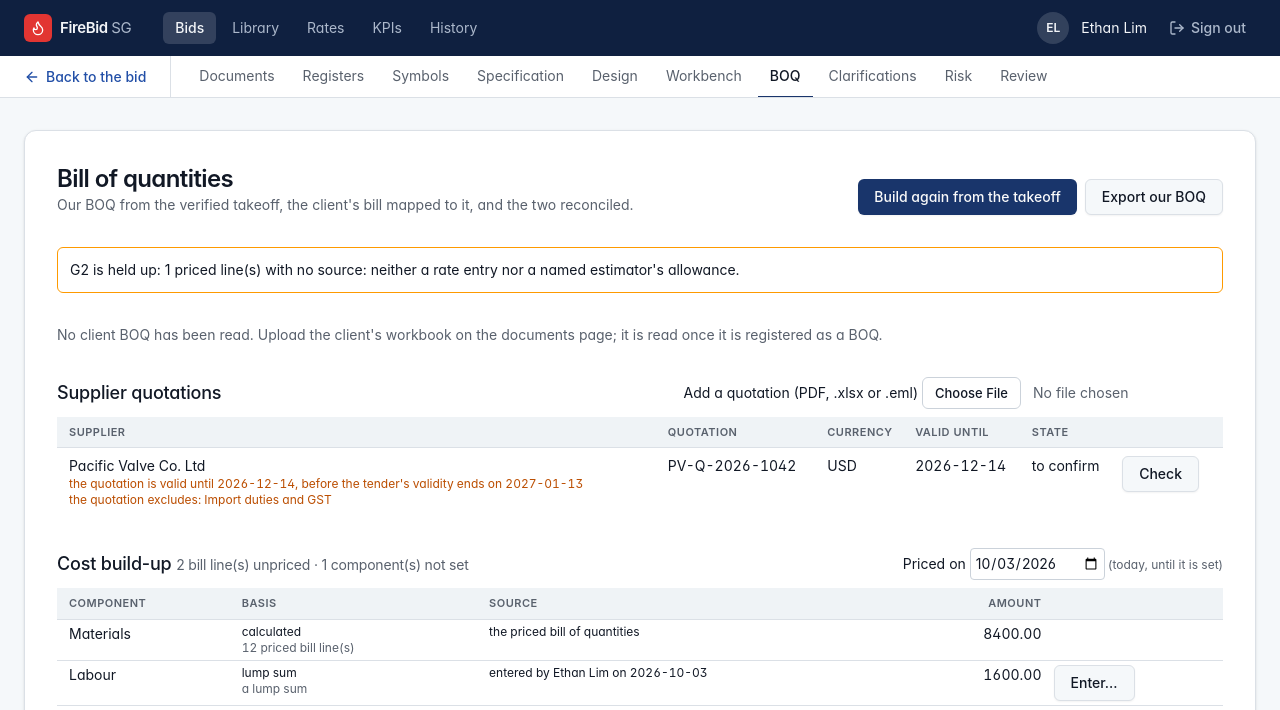
Scenario: quotations and the cost build-up › shows each field beside the line of the file it was read from
Step 1. Click the button "Check" → click(1160, 474), box [1122,456,1199,492]
(page scrolled)
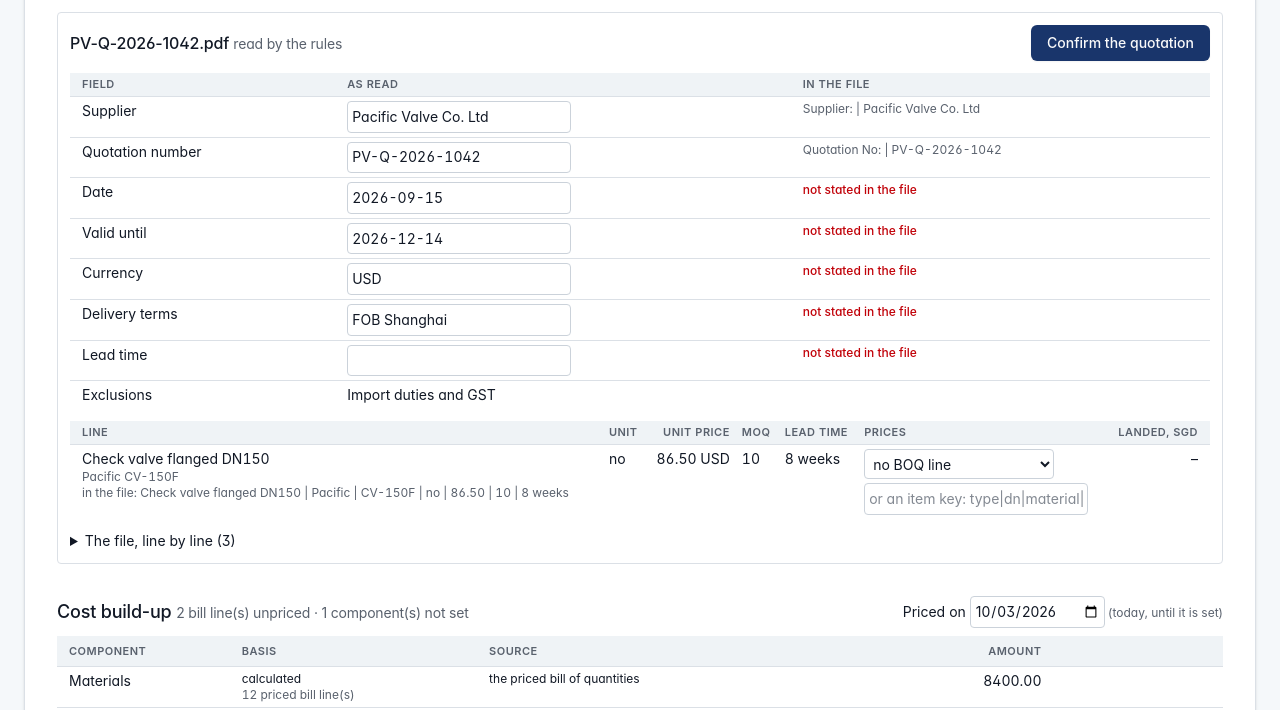
expect the field named "Quotation number" holds "PV-Q-2026-1042": met, box [347,142,571,173]
expect the text "Quotation number" shows "Quotation No: | PV-Q-2026-1042": met, box [803,142,1002,157]
expect the text "Lead time" shows "not stated in the file": met, box [803,345,917,360]
